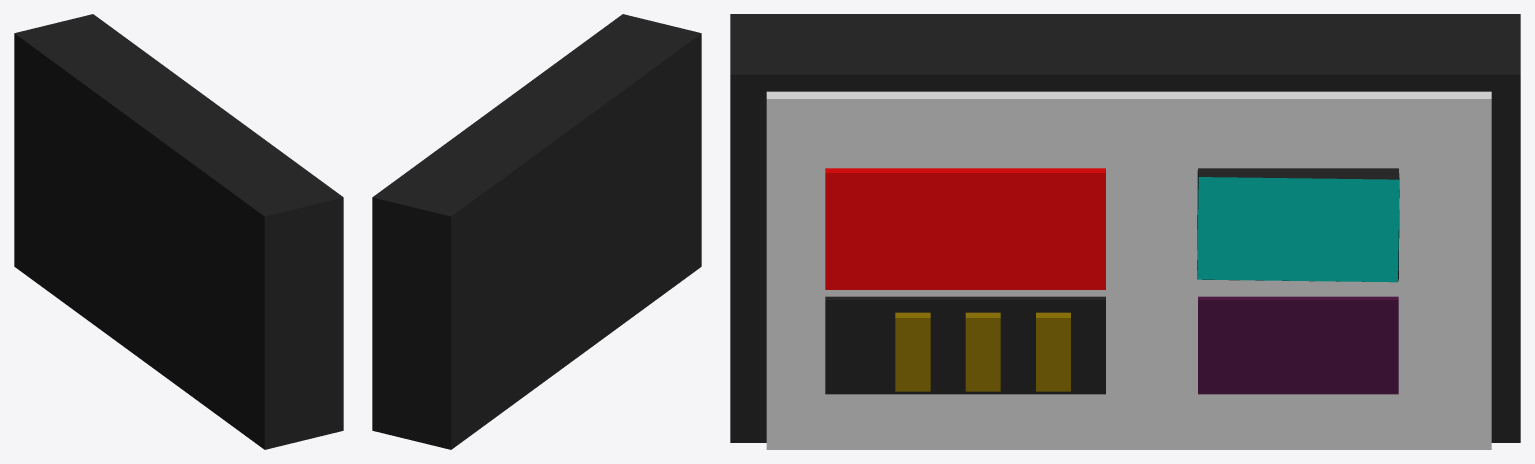
File: Consola.fbx
3 views of the same model, side by side, from view 1: azimuth 30°, elevation 25°; view 2: azimuth 150°, elevation 25°; view 3: azimuth 270°, elevation 25° (orthographic). The views are drawn at different scales.
Visible parts, largest first — view 1: Cube; view 2: Cube; view 3: Cube.
Part boxes in pixels (bbox=[...]): Cube: bbox=[14, 14, 343, 449]; Cube: bbox=[372, 14, 701, 449]; Cube: bbox=[730, 14, 1520, 449].
Size of the model in its own units: 129 by 282 by 549.
